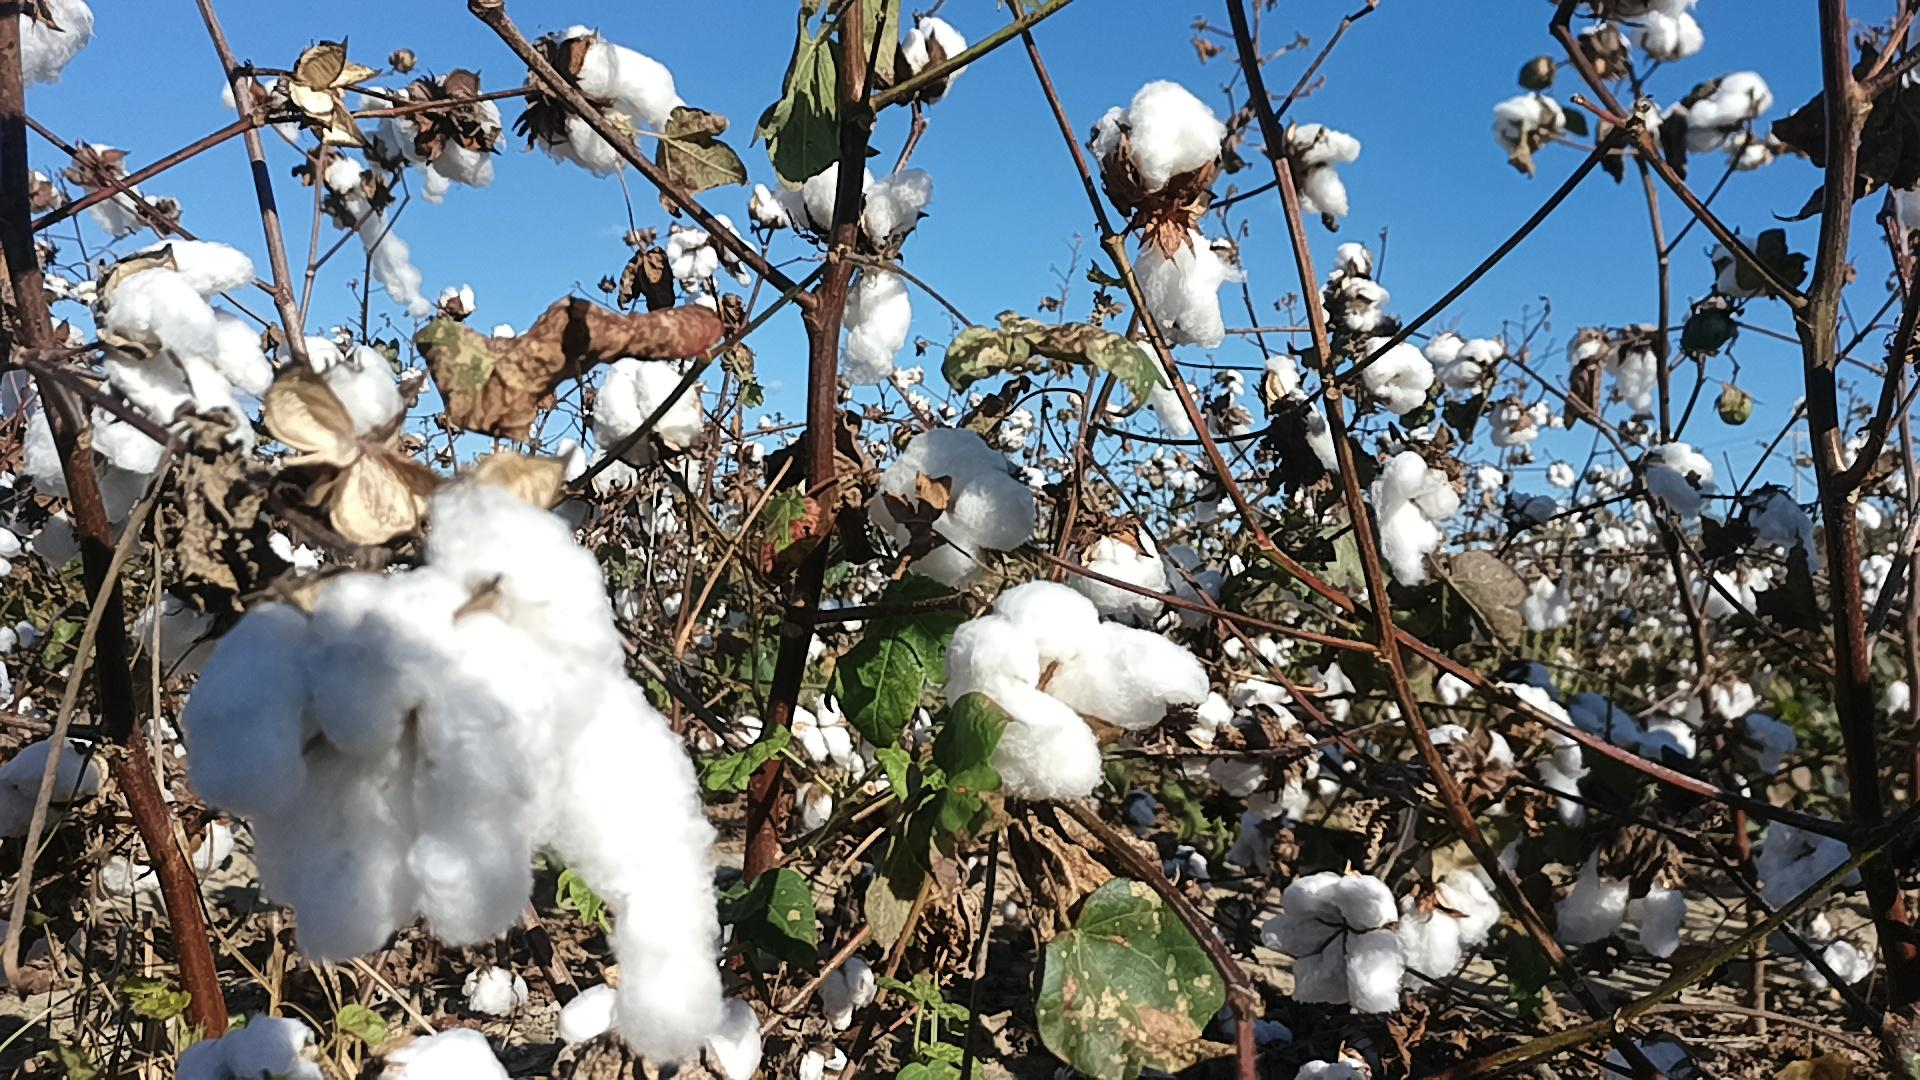cotton_ready: (183, 488, 721, 1063), (944, 583, 1211, 800), (96, 240, 273, 456), (865, 429, 1043, 588), (527, 24, 699, 174), (1258, 873, 1406, 1014), (1089, 82, 1228, 216), (779, 141, 934, 260), (1564, 840, 1692, 959), (389, 79, 508, 194), (1208, 704, 1323, 820), (1135, 235, 1250, 345), (1375, 451, 1461, 589), (1755, 806, 1866, 910), (1394, 873, 1498, 982), (592, 357, 703, 447), (844, 256, 916, 386), (1073, 521, 1171, 616), (324, 348, 405, 443), (886, 18, 975, 95), (21, 1, 95, 88), (1361, 335, 1435, 415), (1625, 0, 1709, 59), (1644, 442, 1714, 512)
